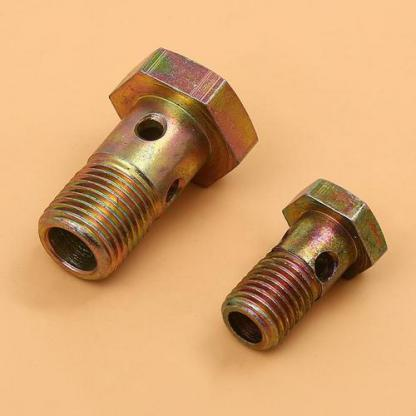FOD: (35, 46, 259, 288), (216, 174, 391, 354)
